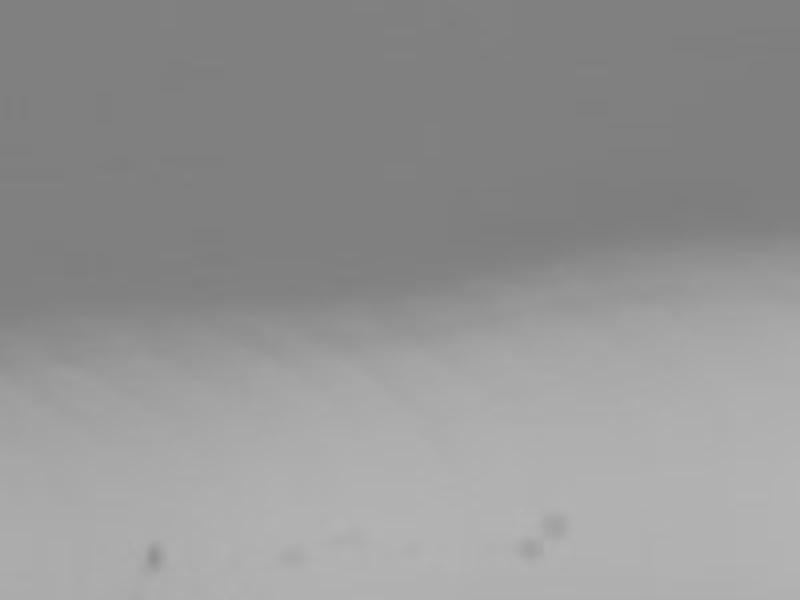defect: (274, 544, 313, 568), (513, 538, 546, 562), (543, 511, 570, 540), (143, 542, 162, 571)
